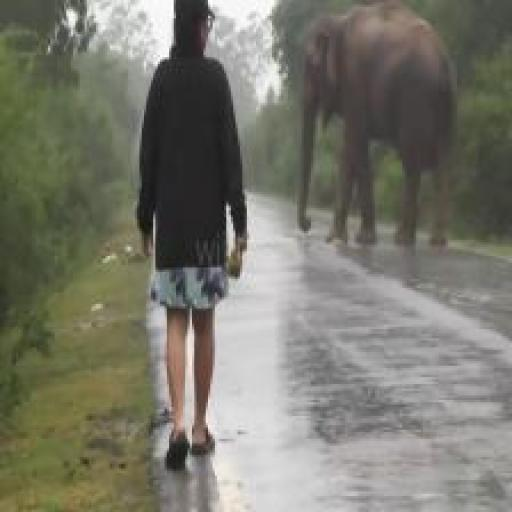Elephant: (288, 2, 479, 278)
